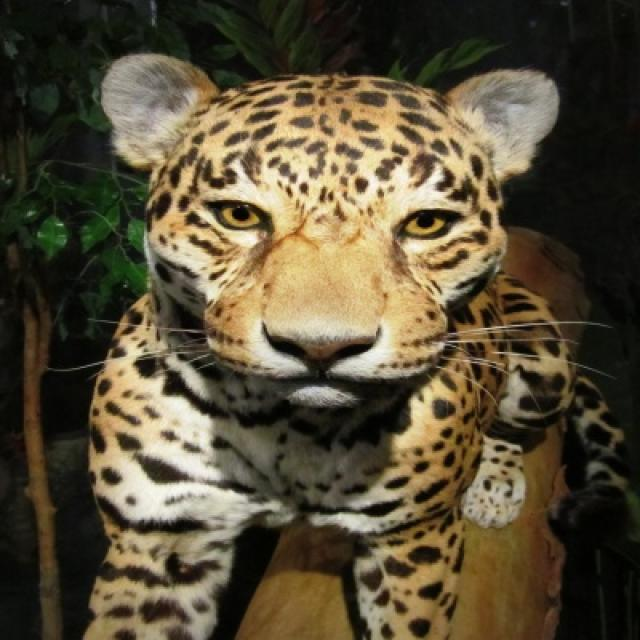Jaguar: (82, 61, 631, 638)
